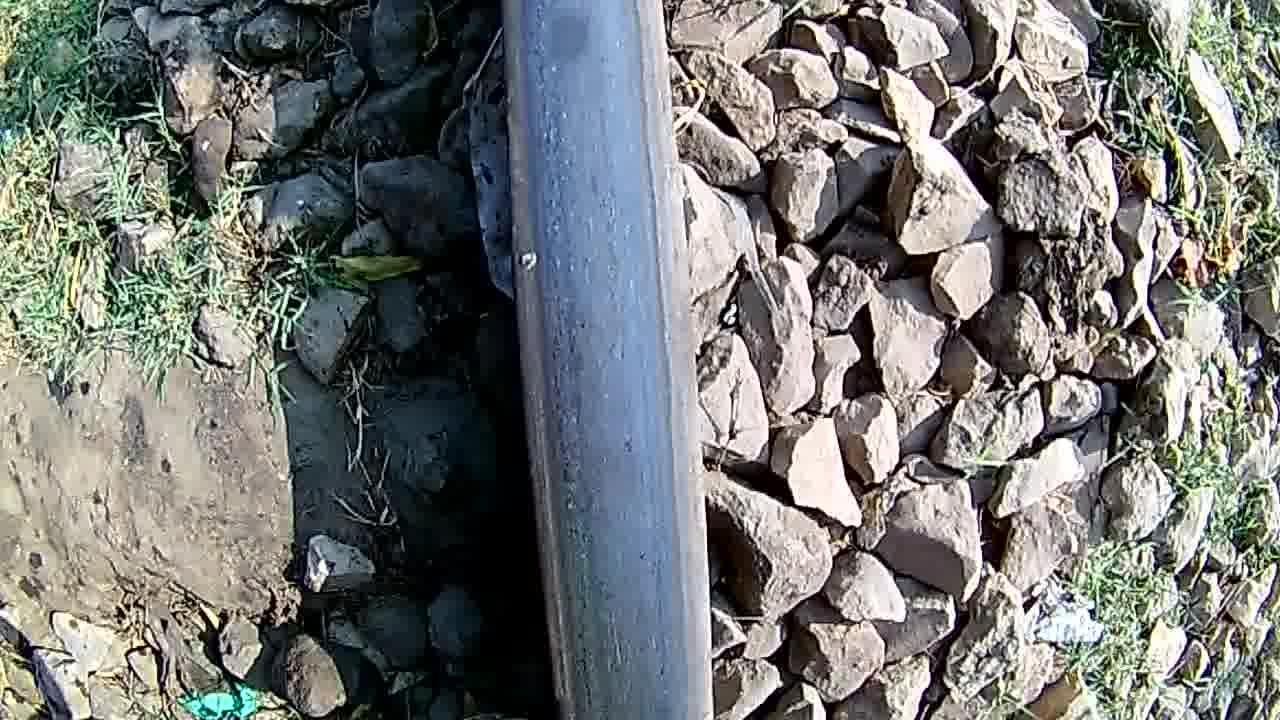crack: (512, 0, 640, 198)
